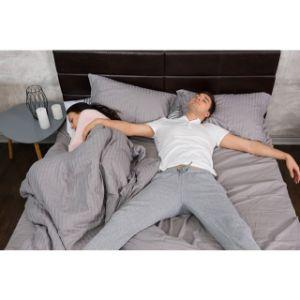sleep: (83, 91, 300, 253), (26, 99, 130, 234)
